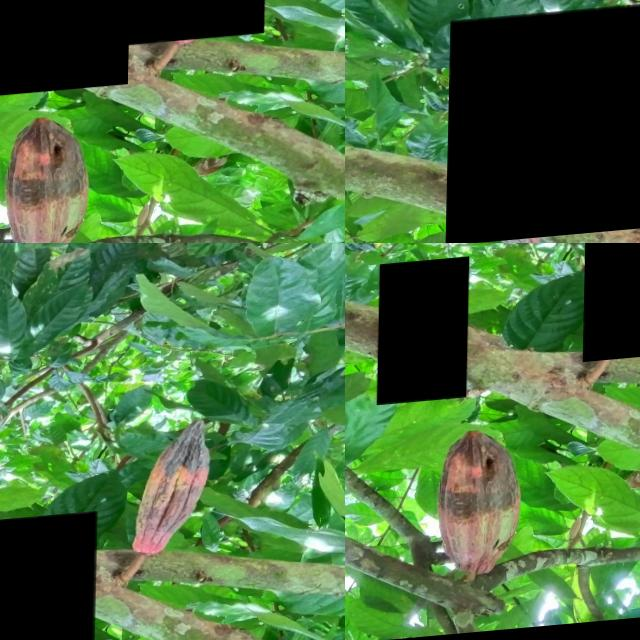Fitoftora: (447, 0, 640, 243), (0, 0, 132, 105), (438, 432, 527, 585), (379, 261, 470, 408), (584, 243, 640, 368)
Monilia: (0, 517, 98, 640)
